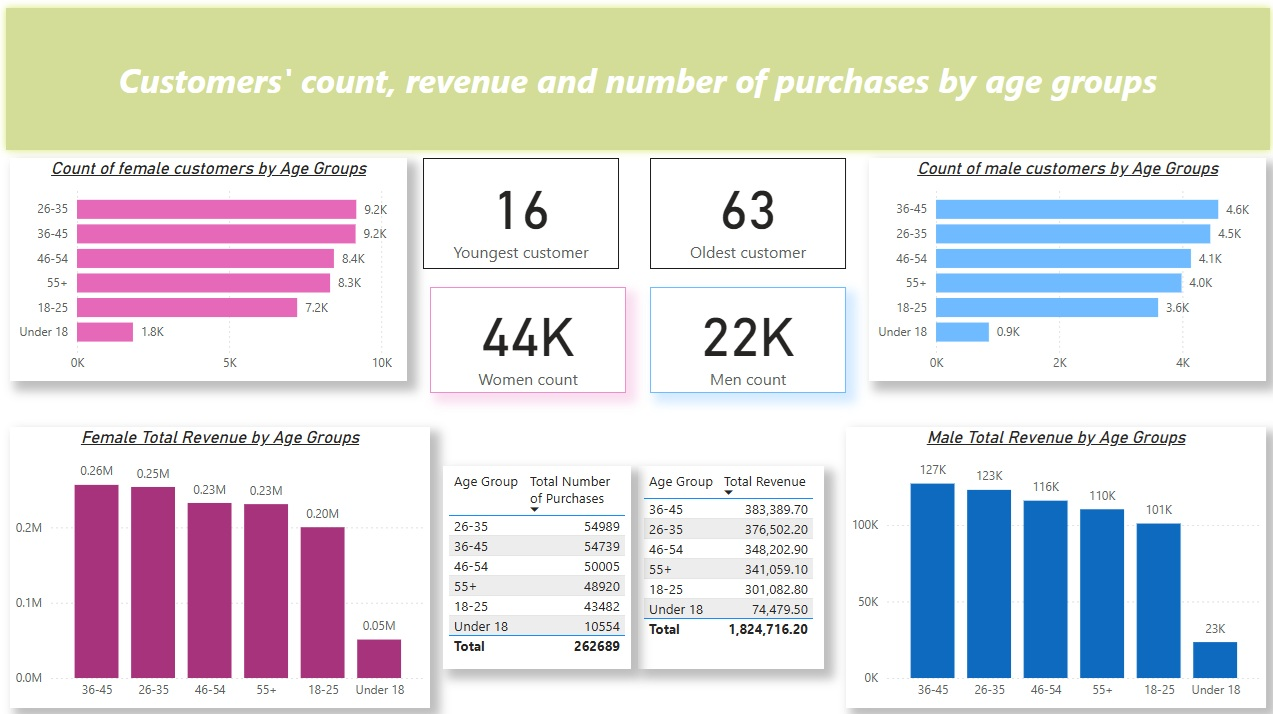

The page's visual inventory and layout, read from the dashboard file:
{"tool":"powerbi","page":{"name":"Customers' count, revenue, n_purchases","canvas":[1280,720],"ordinal":0},"visuals":[{"type":"shape","title":"Customers'' info","box":[0,0,1280,157.6],"z":0},{"type":"card","fields":{"Values":["Measures Table.Men count"]},"box":[652,287,196,106],"z":1000},{"type":"card","fields":{"Values":["Measures Table.Women count"]},"box":[432,287,196,106],"z":2000},{"type":"columnChart","title":"Male Total Revenue by Age Groups","fields":{"Category":["Online Shop Customer Sales Data.Age bins"],"Y":["Sum(Online Shop Customer Sales Data.Revenue_Total)"]},"box":[848,427,420,281],"z":3000},{"type":"columnChart","title":"Female Total Revenue by Age Groups","fields":{"Category":["Online Shop Customer Sales Data.Age bins"],"Y":["Sum(Online Shop Customer Sales Data.Revenue_Total)"]},"box":[12,427,420,281],"z":4000},{"type":"barChart","title":"Count of female customers by Age Groups","fields":{"Category":["Online Shop Customer Sales Data.Age bins"],"Y":["CountNonNull(Online Shop Customer Sales Data.Age bins)"]},"box":[11.7,157.6,396.8,223.7],"z":5000},{"type":"barChart","title":"Count of male customers by Age Groups","fields":{"Category":["Online Shop Customer Sales Data.Age bins"],"Y":["CountNonNull(Online Shop Customer Sales Data.Age bins)"]},"box":[871.5,157.6,396.8,223.7],"z":6000},{"type":"tableEx","fields":{"Values":["Online Shop Customer Sales Data.Age bins","Sum(Online Shop Customer Sales Data.Revenue_Total)"]},"box":[640,466,186,203],"z":7000},{"type":"tableEx","fields":{"Values":["Online Shop Customer Sales Data.Age bins","Sum(Online Shop Customer Sales Data.N_Purchases)"]},"box":[445,466,188,203],"z":8000},{"type":"card","fields":{"Values":["Measures Table.Youngest customer"]},"box":[425,158,196,111],"z":9000},{"type":"card","fields":{"Values":["Measures Table.Oldest customer"]},"box":[652,158,196,111],"z":10000}]}

Visuals, with their boxes in screenshot pixels (x1, y1, x2, y2), scaled from the page's 1280x720 canvas onto the 1273x714 screenshot:
"Customers'' info" shape: box(0, 0, 1272, 156)
card - Measures Table.Men count: box(648, 285, 843, 390)
card - Measures Table.Women count: box(430, 285, 625, 390)
"Male Total Revenue by Age Groups" columnChart: box(843, 423, 1261, 702)
"Female Total Revenue by Age Groups" columnChart: box(12, 423, 430, 702)
"Count of female customers by Age Groups" barChart: box(12, 156, 406, 378)
"Count of male customers by Age Groups" barChart: box(867, 156, 1261, 378)
tableEx - Online Shop Customer Sales Data.Age bins x Sum(Online Shop Customer Sales Data.Revenue_Total): box(636, 462, 821, 663)
tableEx - Online Shop Customer Sales Data.Age bins x Sum(Online Shop Customer Sales Data.N_Purchases): box(443, 462, 630, 663)
card - Measures Table.Youngest customer: box(423, 157, 618, 267)
card - Measures Table.Oldest customer: box(648, 157, 843, 267)
